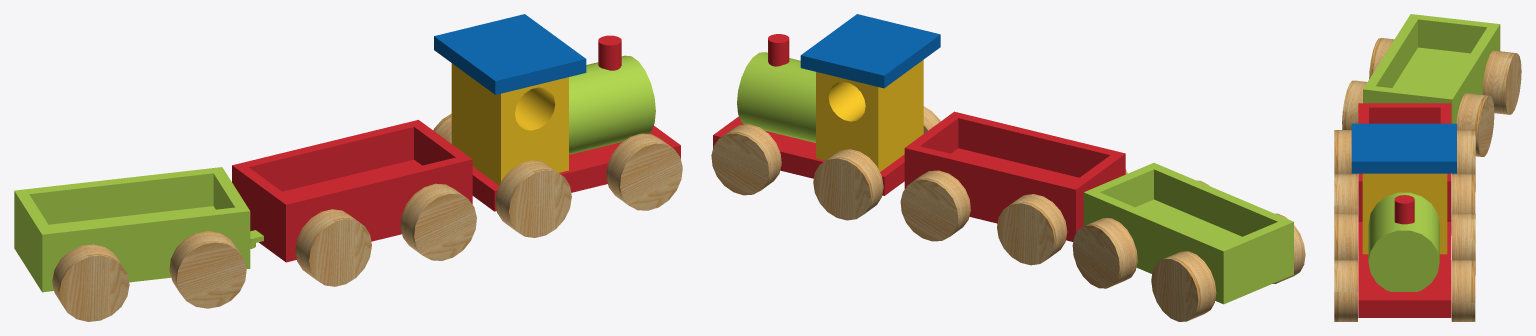
Rendered from Train.FBX.
3 renders of one model, left to right at view 1: azimuth 30°, elevation 25°; view 2: azimuth 150°, elevation 25°; view 3: azimuth 270°, elevation 25°, orthographic. The views are drawn at different scales.
Visible parts, largest first — view 1: train; view 2: train; view 3: train.
Boxes of the visible parts, x1=… form: train: x1=14, y1=14, x2=682, y2=321; train: x1=711, y1=14, x2=1305, y2=321; train: x1=1334, y1=14, x2=1521, y2=321.
Size of the model in its own units: 64.62 by 15.93 by 20.08.
